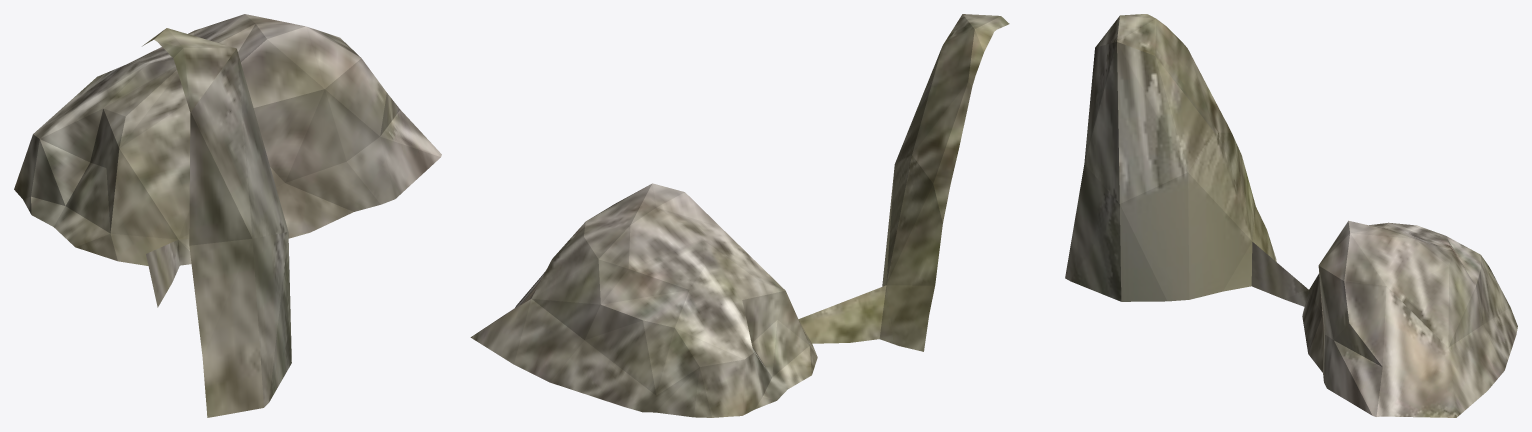
3 renders of one model, left to right at view 1: azimuth 30°, elevation 25°; view 2: azimuth 150°, elevation 25°; view 3: azimuth 270°, elevation 25°, orthographic. The views are drawn at different scales.
Bounding box in the file's own units: 1.73 × 1.26 × 2.09.
1 material, 1 textured.
